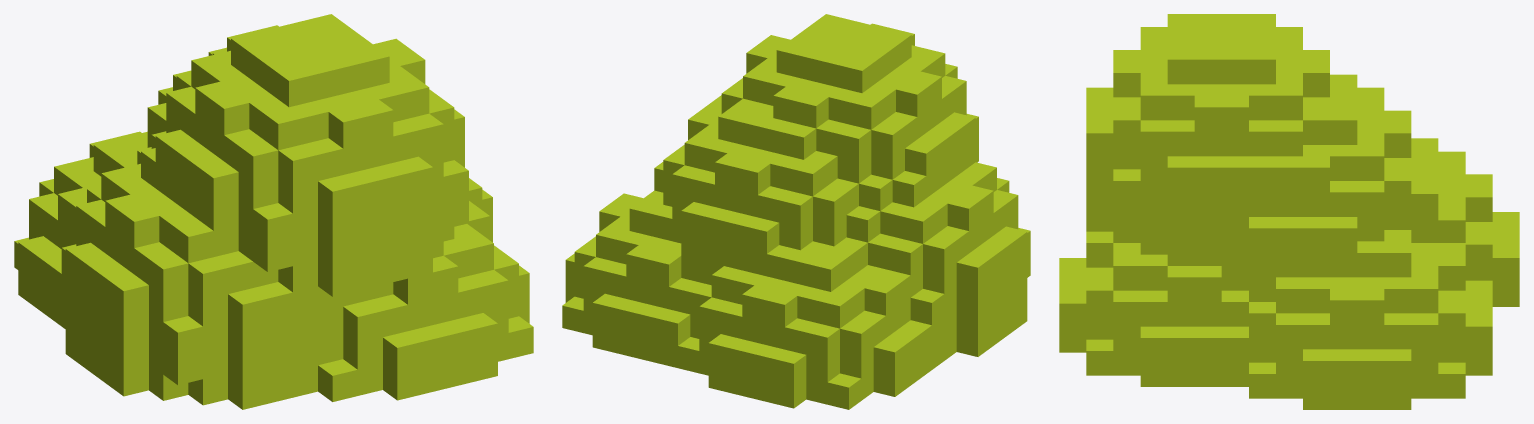
File: seno.obj
3 views of the same model, side by side, from view 1: azimuth 30°, elevation 25°; view 2: azimuth 150°, elevation 25°; view 3: azimuth 270°, elevation 25° (orthographic). The views are drawn at different scales.
Bounding box in the file's own units: 1.7 × 1.1 × 1.7.
1 material, 1 textured.
